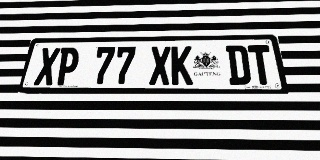7: (91, 47, 116, 85), (113, 47, 136, 85)
D: (226, 45, 252, 85)
K: (171, 46, 193, 85)
P: (54, 47, 80, 85)
T: (247, 45, 275, 85)
X: (33, 48, 61, 85), (149, 46, 171, 85)
